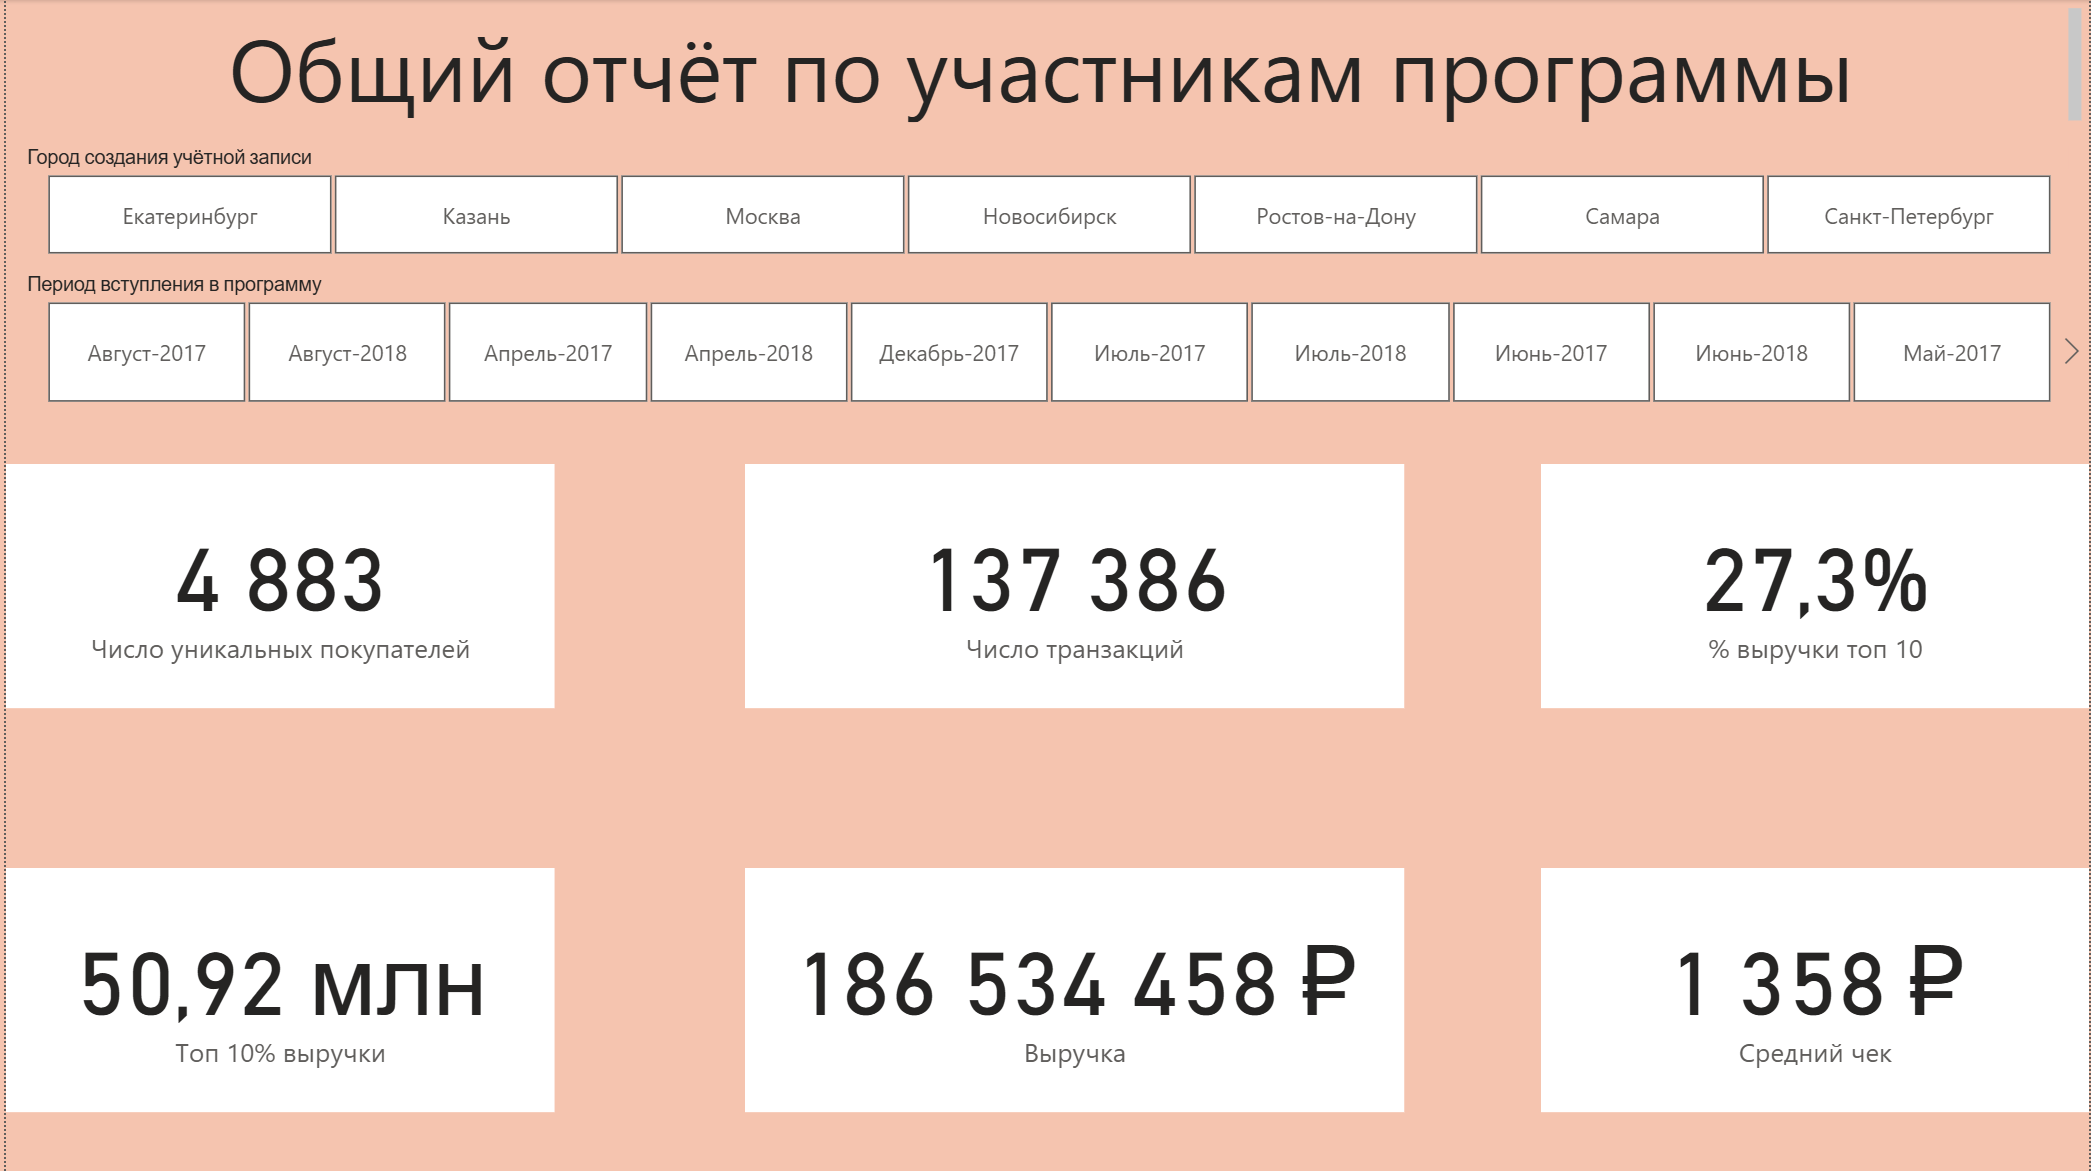

Layout of this report page (visuals, bound fields, positions):
{"tool":"powerbi","page":{"name":"Общий отчёт по участникам программы","canvas":[1280,720],"ordinal":0},"visuals":[{"type":"textbox","box":[0,0,1280.3,80.5],"z":0},{"type":"slicer","fields":{"Values":["Клиенты.Город создания учётной записи"]},"box":[0,84.8,1280.3,78],"z":1000},{"type":"slicer","fields":{"Values":["Клиенты.Период вступления в программу"]},"box":[0,162.8,1280.3,90.9],"z":2000},{"type":"card","fields":{"Values":["Меры.Число уникальных покупателей"]},"box":[0,285.1,337.3,149.9],"z":3000},{"type":"card","fields":{"Values":["Меры.Число транзакций"]},"box":[454,285.1,405.5,149.9],"z":4000},{"type":"card","fields":{"Values":["Меры.Средний чек"]},"box":[943,533.2,337.3,149.9],"z":5000},{"type":"card","fields":{"Values":["Меры.Выручка"]},"box":[454,533.2,405.5,149.9],"z":6000},{"type":"card","fields":{"Values":["Меры.Топ 10% выручки"]},"box":[0,533.2,337.3,149.9],"z":7000},{"type":"card","fields":{"Values":["Меры.% выручки топ 10"]},"box":[943,285.1,337.3,149.9],"z":8000}]}

Visuals, with their boxes in screenshot pixels (x1, y1, x2, y2), scaled from the page's 1280x720 canvas onto the 2091x1171 screenshot:
textbox: BBox(0, 0, 2090, 131)
slicer - Клиенты.Город создания учётной записи: BBox(0, 138, 2090, 265)
slicer - Клиенты.Период вступления в программу: BBox(0, 265, 2090, 413)
card - Меры.Число уникальных покупателей: BBox(0, 464, 551, 707)
card - Меры.Число транзакций: BBox(742, 464, 1404, 707)
card - Меры.Средний чек: BBox(1540, 867, 2090, 1111)
card - Меры.Выручка: BBox(742, 867, 1404, 1111)
card - Меры.Топ 10% выручки: BBox(0, 867, 551, 1111)
card - Меры.% выручки топ 10: BBox(1540, 464, 2090, 707)
